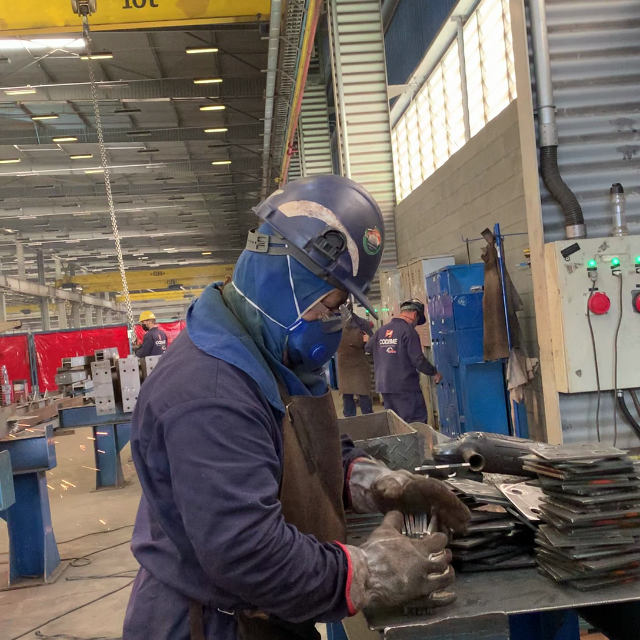face-shield: (287, 253, 354, 324)
glove: (334, 508, 459, 611), (345, 453, 477, 533)
helmet: (248, 175, 417, 319), (136, 310, 156, 323)
mask: (285, 321, 341, 370), (139, 322, 145, 327)
person: (127, 173, 482, 640), (134, 310, 168, 357)
